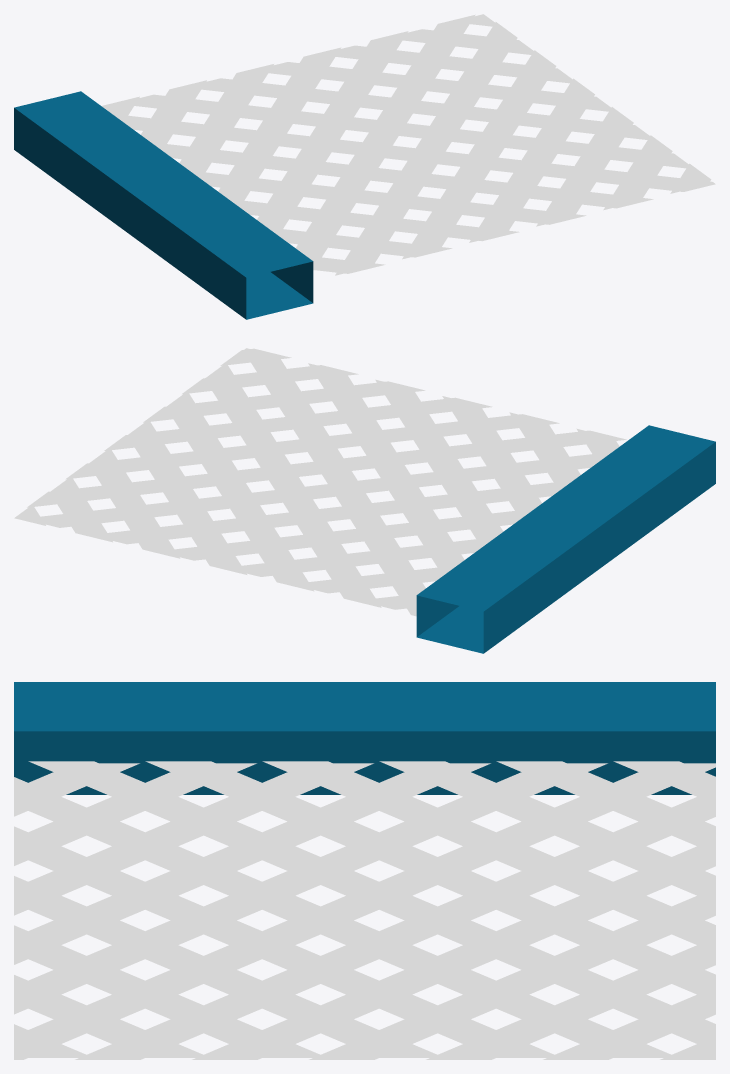
File: G02_021_Floor_Mesh_WAD.fbx
The picture shows the model from 3 angles, top to bottom: view 1: azimuth 30°, elevation 25°; view 2: azimuth 150°, elevation 25°; view 3: azimuth 270°, elevation 25°; orthographic projection. The views are drawn at different scales.
Parts seen in each view (by area): view 1: 平面.004, 008_Mesh_AD_B.002; view 2: 平面.004, 008_Mesh_AD_B.002; view 3: 平面.004, 008_Mesh_AD_B.002.
Part boxes in pixels (x1,y1,x2,y2): 平面.004: (102, 14, 715, 275); 008_Mesh_AD_B.002: (14, 91, 313, 319); 平面.004: (14, 348, 626, 616); 008_Mesh_AD_B.002: (416, 425, 715, 653); 平面.004: (14, 761, 715, 1059); 008_Mesh_AD_B.002: (14, 682, 715, 794).
Bounding box in the file's own units: 350 × 30 × 300.
